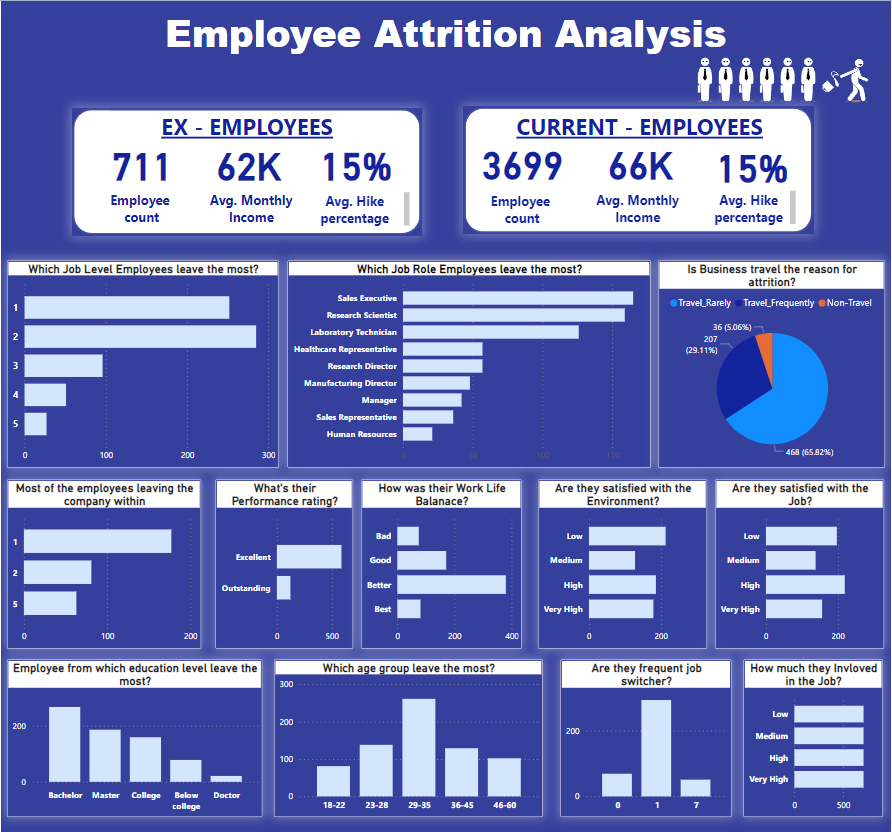

What the dashboard file says about the page in this screenshot:
{"tool":"powerbi","page":{"name":"report","canvas":[1280,1200],"ordinal":0},"visuals":[{"type":"shape","box":[663.8,151,505,184.8],"z":0},{"type":"shape","box":[101.5,153.6,505,184.8],"z":1000},{"type":"clusteredBarChart","title":"Which Job Level Employees leave the most?","fields":{"Category":["general_data.JobLevel"],"Y":["resuorce_measures.attrition count"]},"box":[9.5,374.2,391.3,298.3],"z":2000},{"type":"clusteredColumnChart","title":"Employee from which education level leave the most?","fields":{"Y":["resuorce_measures.attrition count"],"Category":["Education.meaning"]},"box":[9.5,946.9,367.5,226.7],"z":3000},{"type":"pieChart","title":"Is Business travel the reason for attrition?","fields":{"Category":["general_data.BusinessTravel"],"Y":["resuorce_measures.attrition count"]},"box":[944.9,374.2,326.9,298.3],"z":4000},{"type":"clusteredBarChart","title":"Which Job Role Employees leave the most?","fields":{"Category":["general_data.JobRole"],"Y":["resuorce_measures.attrition count"]},"box":[412.8,374.2,522.6,298.3],"z":5000},{"type":"columnChart","title":"Are they frequent job switcher?","fields":{"Category":["general_data.NumCompaniesWorked"],"Y":["resuorce_measures.attrition count"]},"box":[804.1,946.9,245.8,226.7],"z":6000},{"type":"card","fields":{"Values":["resuorce_measures.avg. monthly income"]},"box":[281.5,192.4,151.1,78.3],"z":7000},{"type":"card","fields":{"Values":["resuorce_measures.avg. % salary hike"]},"box":[440.2,188,140.2,88],"z":8000},{"type":"card","fields":{"Values":["resuorce_measures.attrition count"]},"box":[122.8,184.8,158.7,91.3],"z":9000},{"type":"card","fields":{"Values":["resuorce_measures.stayed count"]},"box":[669.2,179.5,161.5,100],"z":10000},{"type":"card","fields":{"Values":["resuorce_measures.stay avg. month salary"]},"box":[851.3,179.5,138.5,102.6],"z":11000},{"type":"card","fields":{"Values":["resuorce_measures.stay avg. % salary hike"]},"box":[1010.3,179.5,141,110.3],"z":12000},{"type":"clusteredBarChart","title":"Most of the employees leaving the company within","fields":{"Category":["general_data.YearsAtCompany"],"Y":["resuorce_measures.attrition count"]},"box":[9.5,689.2,279.2,243.4],"z":13000},{"type":"columnChart","title":"Which age group leave the most?","fields":{"Category":["general_data.age_range"],"Y":["resuorce_measures.attrition count"]},"box":[393.7,946.9,386.6,226.7],"z":14000},{"type":"clusteredBarChart","title":"Are they satisfied with the Environment?","fields":{"Y":["resuorce_measures.attrition count"],"Category":["Envir_satisfaction.Meaning"]},"box":[773.1,689.2,243.4,243.4],"z":15000},{"type":"clusteredBarChart","title":"Are they satisfied with the Job?","fields":{"Y":["resuorce_measures.attrition count"],"Category":["job_satisfaction.Meaning"]},"box":[1028.4,689.2,243.4,243.4],"z":16000},{"type":"clusteredBarChart","title":"How much they Invloved in the Job?","fields":{"Y":["resuorce_measures.attrition count"],"Category":["JobInvolment.Meaning"]},"box":[1069,946.9,200.4,226.7],"z":17000},{"type":"clusteredBarChart","title":"How was their Work Life Balanace?","fields":{"Y":["resuorce_measures.attrition count"],"Category":["WLB.meaning"]},"box":[517.8,689.2,231.5,243.4],"z":18000},{"type":"clusteredBarChart","title":"What''s their Performance rating?","fields":{"Y":["resuorce_measures.attrition count"],"Category":["Performance_rating.Column1"]},"box":[307.8,689.2,198,243.4],"z":19000},{"type":"textbox","box":[101.1,153.3,505.4,72.8],"z":20000},{"type":"textbox","box":[669.2,153.8,500,74.4],"z":21000},{"type":"textbox","box":[122.8,268.5,158.7,59.8],"z":22000},{"type":"textbox","box":[281.5,267.4,158.7,59.8],"z":23000},{"type":"textbox","box":[433.3,269.2,159,59],"z":24000},{"type":"image","box":[968.4,34.2,310.5,144.7],"z":25000},{"type":"textbox","box":[682.1,269.2,135.9,64.1],"z":26000},{"type":"textbox","box":[841,266.7,148.7,61.5],"z":27000},{"type":"textbox","box":[1010.3,266.7,138.5,59],"z":28000},{"type":"textbox","box":[0,2.6,1279.5,87.2],"z":29000}]}

Visuals, with their boxes in screenshot pixels (x1, y1, x2, y2), scaled from the page's 1280x1200 canvas onto the 892x832 screenshot:
shape: x1=463 y1=105 x2=815 y2=233
shape: x1=71 y1=106 x2=423 y2=235
"Which Job Level Employees leave the most?" clusteredBarChart: x1=7 y1=259 x2=279 y2=466
"Employee from which education level leave the most?" clusteredColumnChart: x1=7 y1=657 x2=263 y2=814
"Is Business travel the reason for attrition?" pieChart: x1=658 y1=259 x2=886 y2=466
"Which Job Role Employees leave the most?" clusteredBarChart: x1=288 y1=259 x2=652 y2=466
"Are they frequent job switcher?" columnChart: x1=560 y1=657 x2=732 y2=814
card - resuorce_measures.avg. monthly income: x1=196 y1=133 x2=301 y2=188
card - resuorce_measures.avg. % salary hike: x1=307 y1=130 x2=404 y2=191
card - resuorce_measures.attrition count: x1=86 y1=128 x2=196 y2=191
card - resuorce_measures.stayed count: x1=466 y1=124 x2=579 y2=194
card - resuorce_measures.stay avg. month salary: x1=593 y1=124 x2=690 y2=196
card - resuorce_measures.stay avg. % salary hike: x1=704 y1=124 x2=802 y2=201
"Most of the employees leaving the company within" clusteredBarChart: x1=7 y1=478 x2=201 y2=647
"Which age group leave the most?" columnChart: x1=274 y1=657 x2=544 y2=814
"Are they satisfied with the Environment?" clusteredBarChart: x1=539 y1=478 x2=708 y2=647
"Are they satisfied with the Job?" clusteredBarChart: x1=717 y1=478 x2=886 y2=647
"How much they Invloved in the Job?" clusteredBarChart: x1=745 y1=657 x2=885 y2=814
"How was their Work Life Balanace?" clusteredBarChart: x1=361 y1=478 x2=522 y2=647
"What''s their Performance rating?" clusteredBarChart: x1=214 y1=478 x2=352 y2=647
textbox: x1=70 y1=106 x2=423 y2=157
textbox: x1=466 y1=107 x2=815 y2=158
textbox: x1=86 y1=186 x2=196 y2=228
textbox: x1=196 y1=185 x2=307 y2=227
textbox: x1=302 y1=187 x2=413 y2=228
image: x1=675 y1=24 x2=891 y2=124
textbox: x1=475 y1=187 x2=570 y2=231
textbox: x1=586 y1=185 x2=690 y2=228
textbox: x1=704 y1=185 x2=801 y2=226
textbox: x1=0 y1=2 x2=891 y2=62
